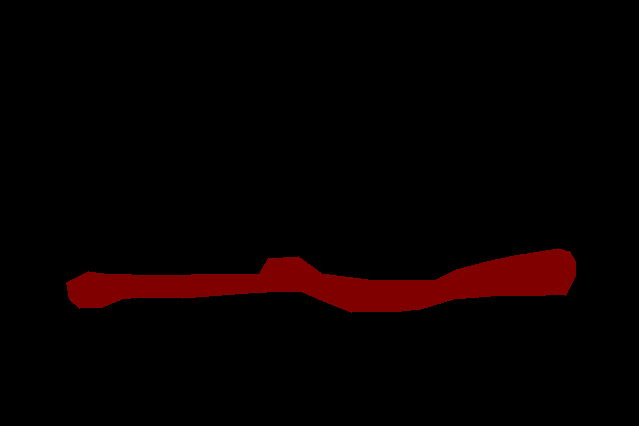fire: (66, 248, 575, 312)
